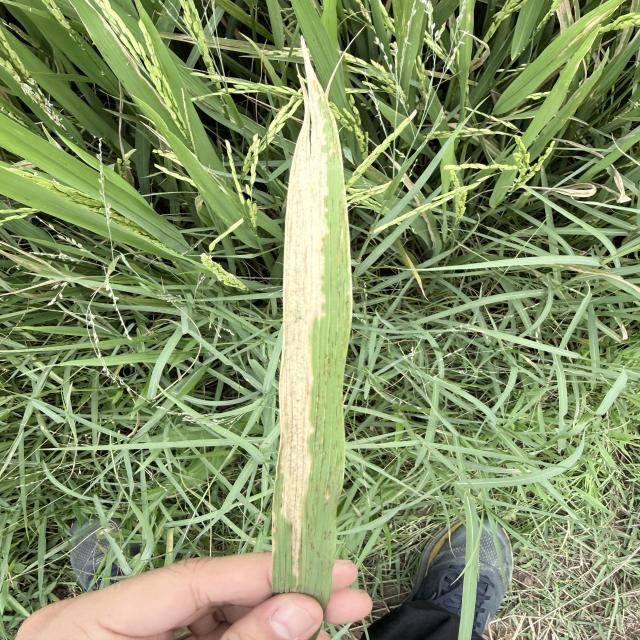Chay bia la: (270, 38, 330, 577)
